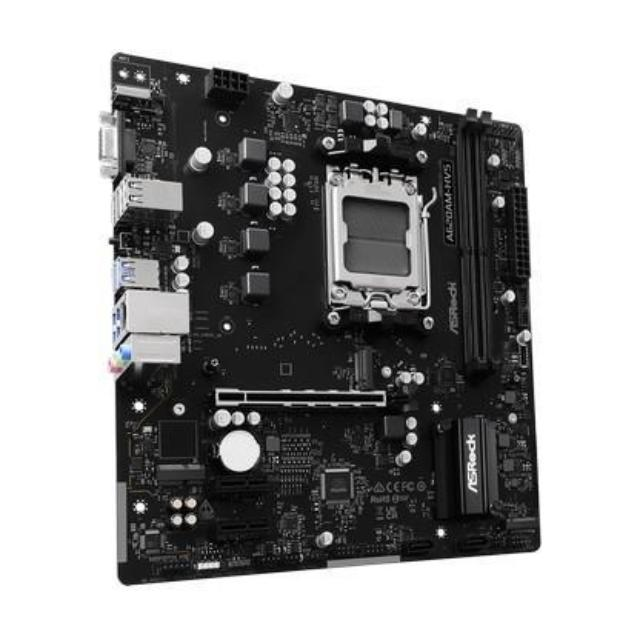Mainboard: (100, 47, 546, 599)
